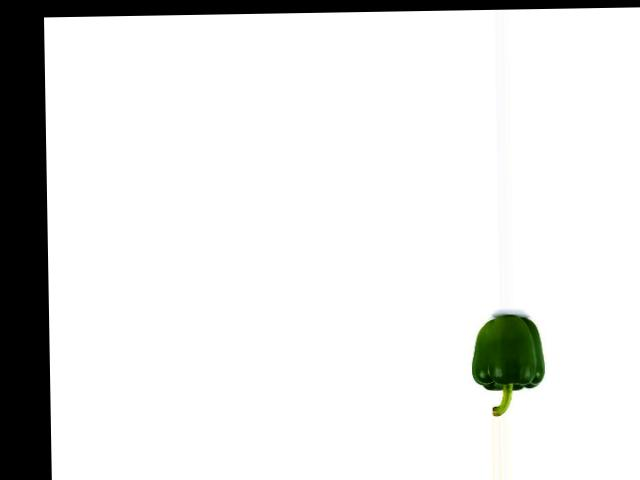bell_pepper: (469, 314, 557, 414)
